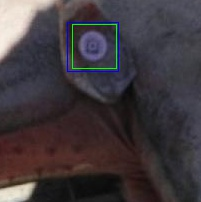text: (72, 24, 116, 68)
